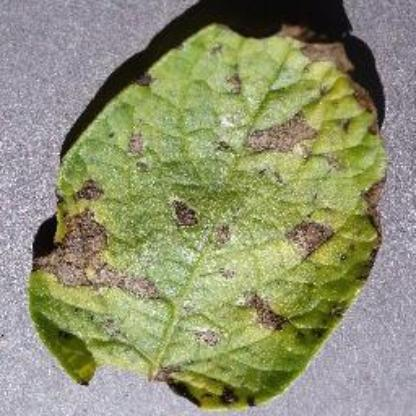Early-Blight: (24, 20, 388, 406)
